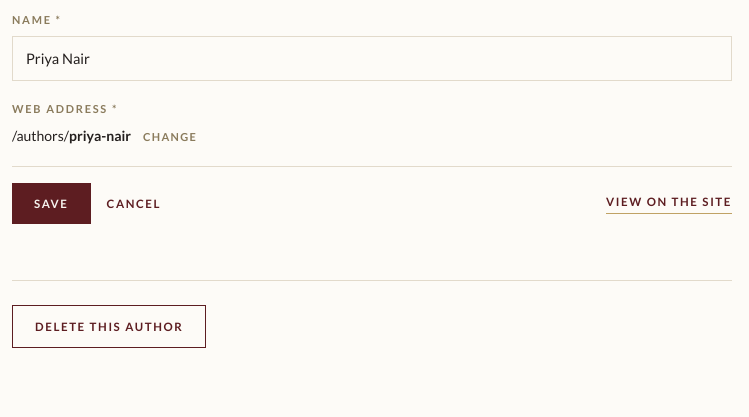
Test: RecordForm, on a record that already exists › warns about broken links only once the address is opened for editing
Expected: the text "breaks every link" is not shown
Click the button "Change".
click(170, 137)  # box [143,129,197,145]
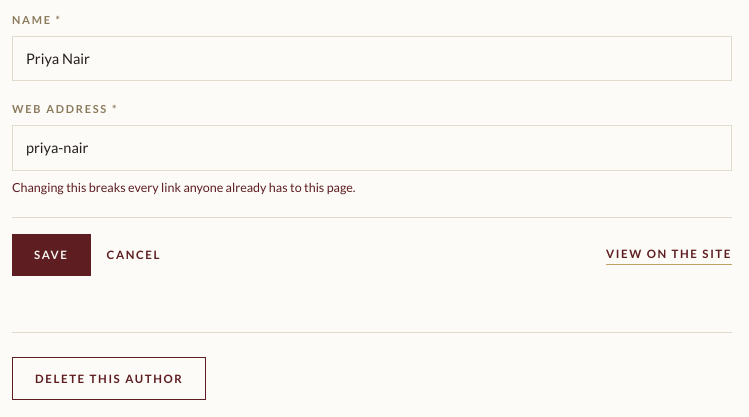
Now the text "breaks every link" is shown, box [12,180,356,194]
